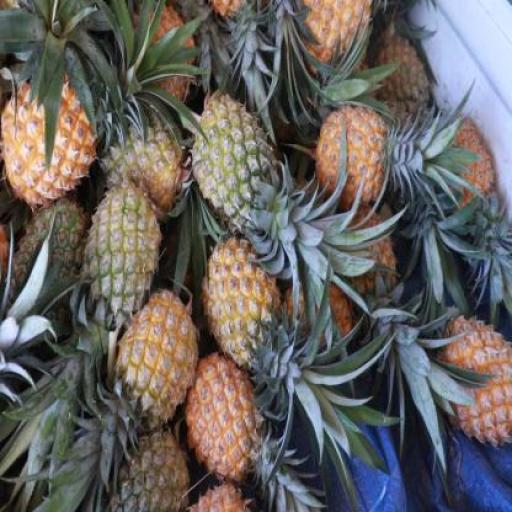------------------------------: (120, 295, 198, 430), (190, 92, 268, 220), (86, 186, 160, 320), (187, 353, 259, 480), (102, 116, 179, 204), (202, 455, 284, 512)
Pineapple - v8 v1: (4, 75, 96, 206), (202, 237, 276, 354), (447, 312, 511, 440), (318, 101, 390, 203)
